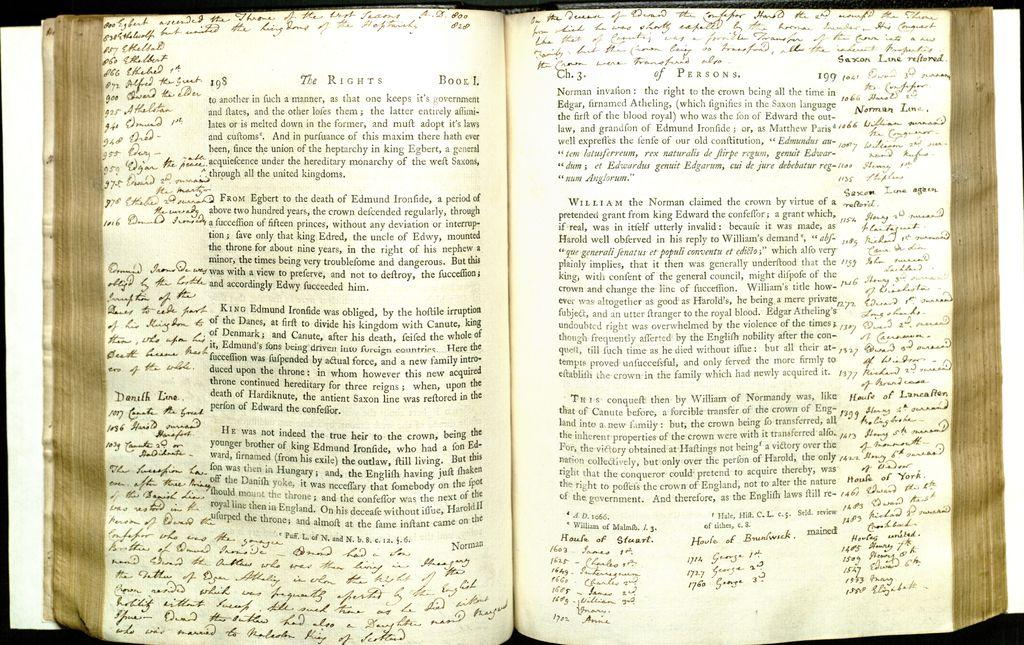Book: (17, 3, 1016, 642)
